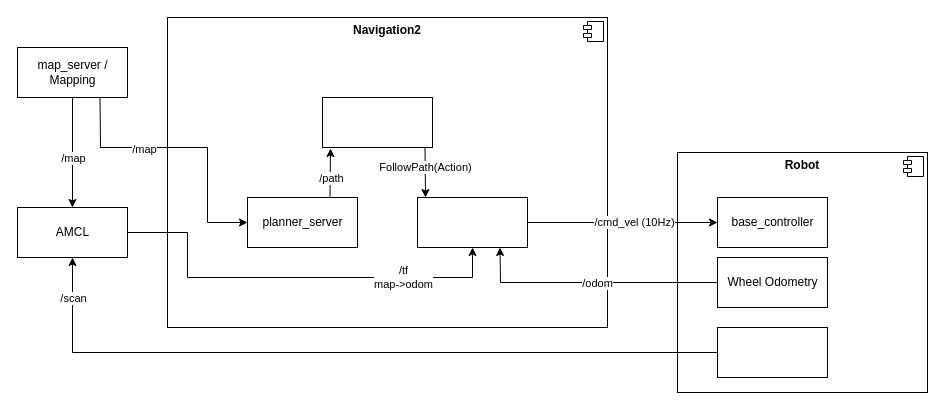
Some shapes in this 945 by 410 pixel diagram are drawn without their labels. Each missing label, with the centre of its shape:
"bt_navigator" belongs at (x=377, y=122).
"controller_server" belongs at (x=472, y=222).
"Lidar" belongs at (x=772, y=352).
